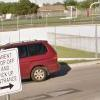Car: (3, 33, 69, 81)
